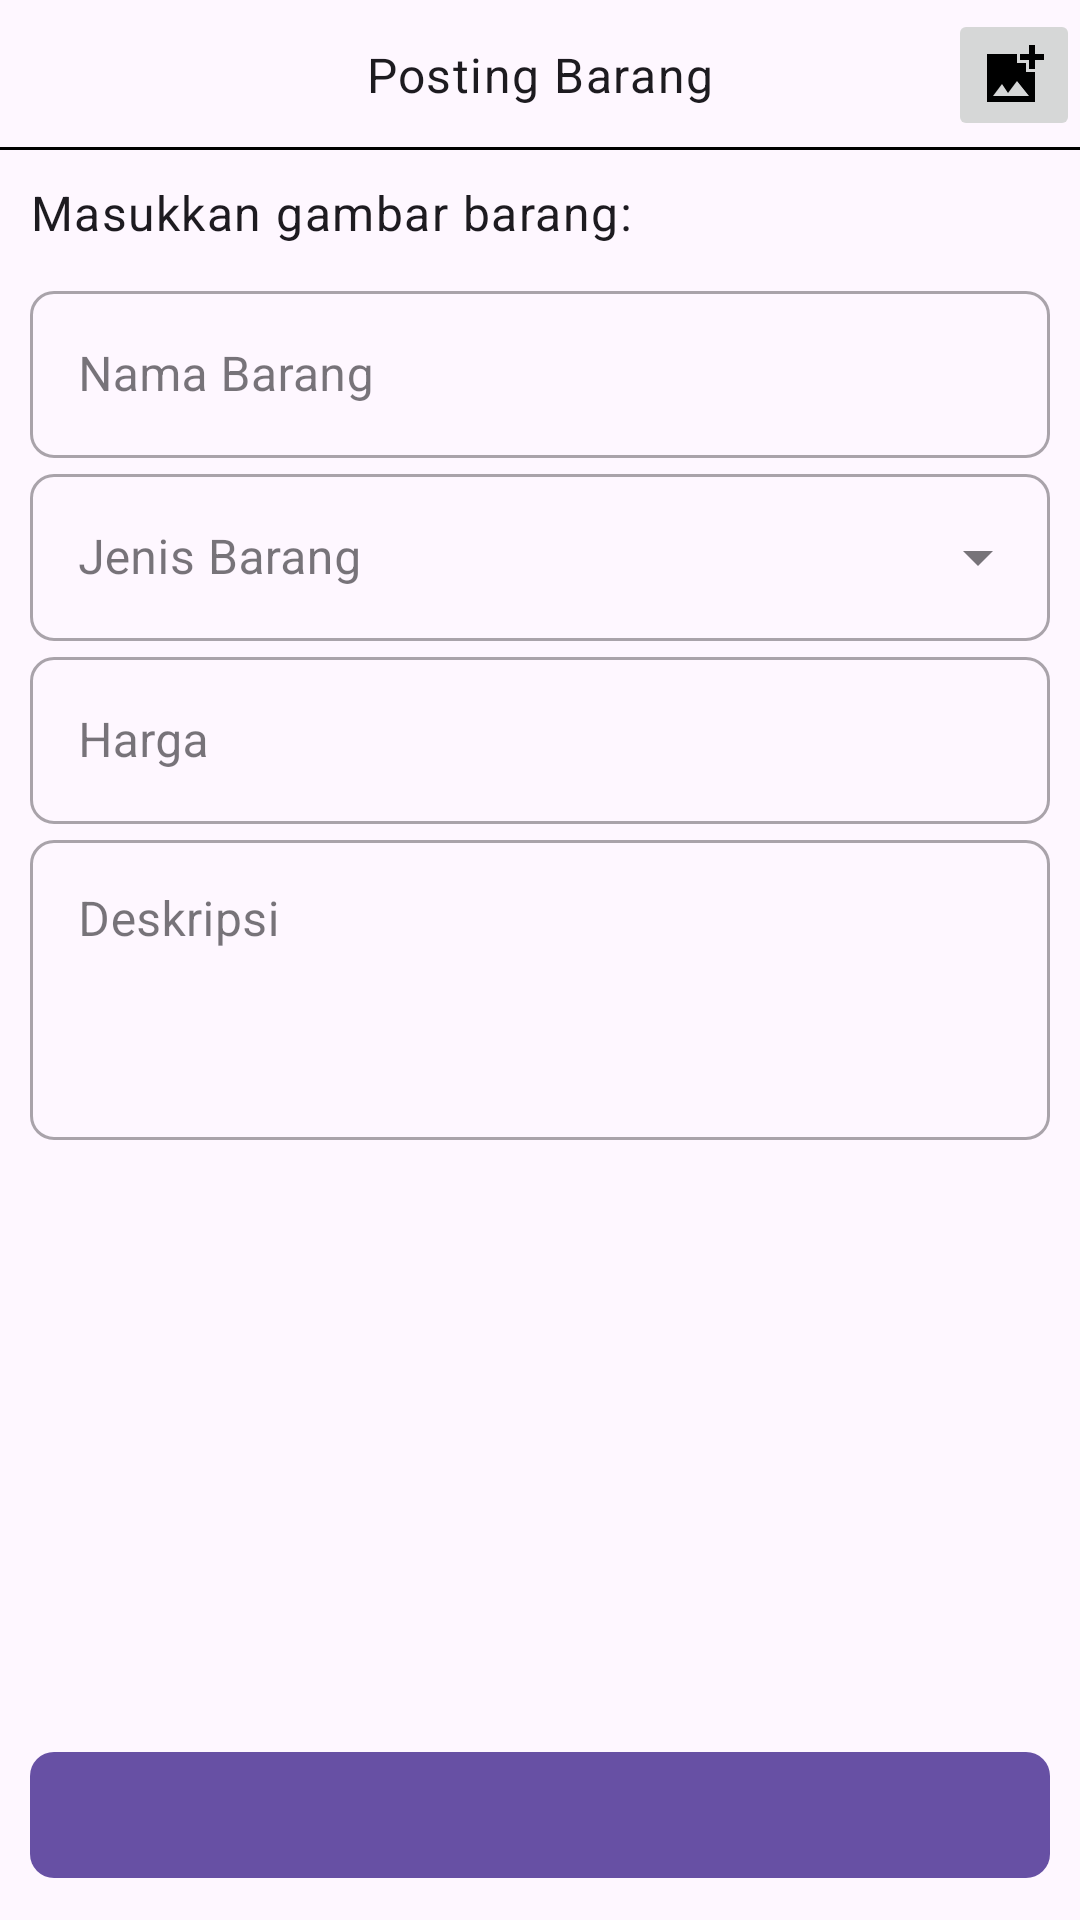

Named icons in this screenshot (1080w x 1920h) and their bounding boxes, (x1, y1, x2, y2):
tambah gambar: (960, 27, 1068, 123)
